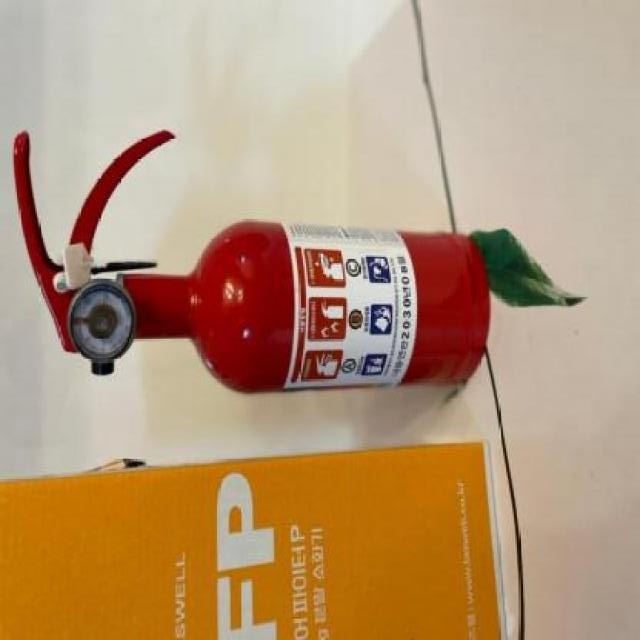fire extinguisher: (12, 129, 490, 395)
